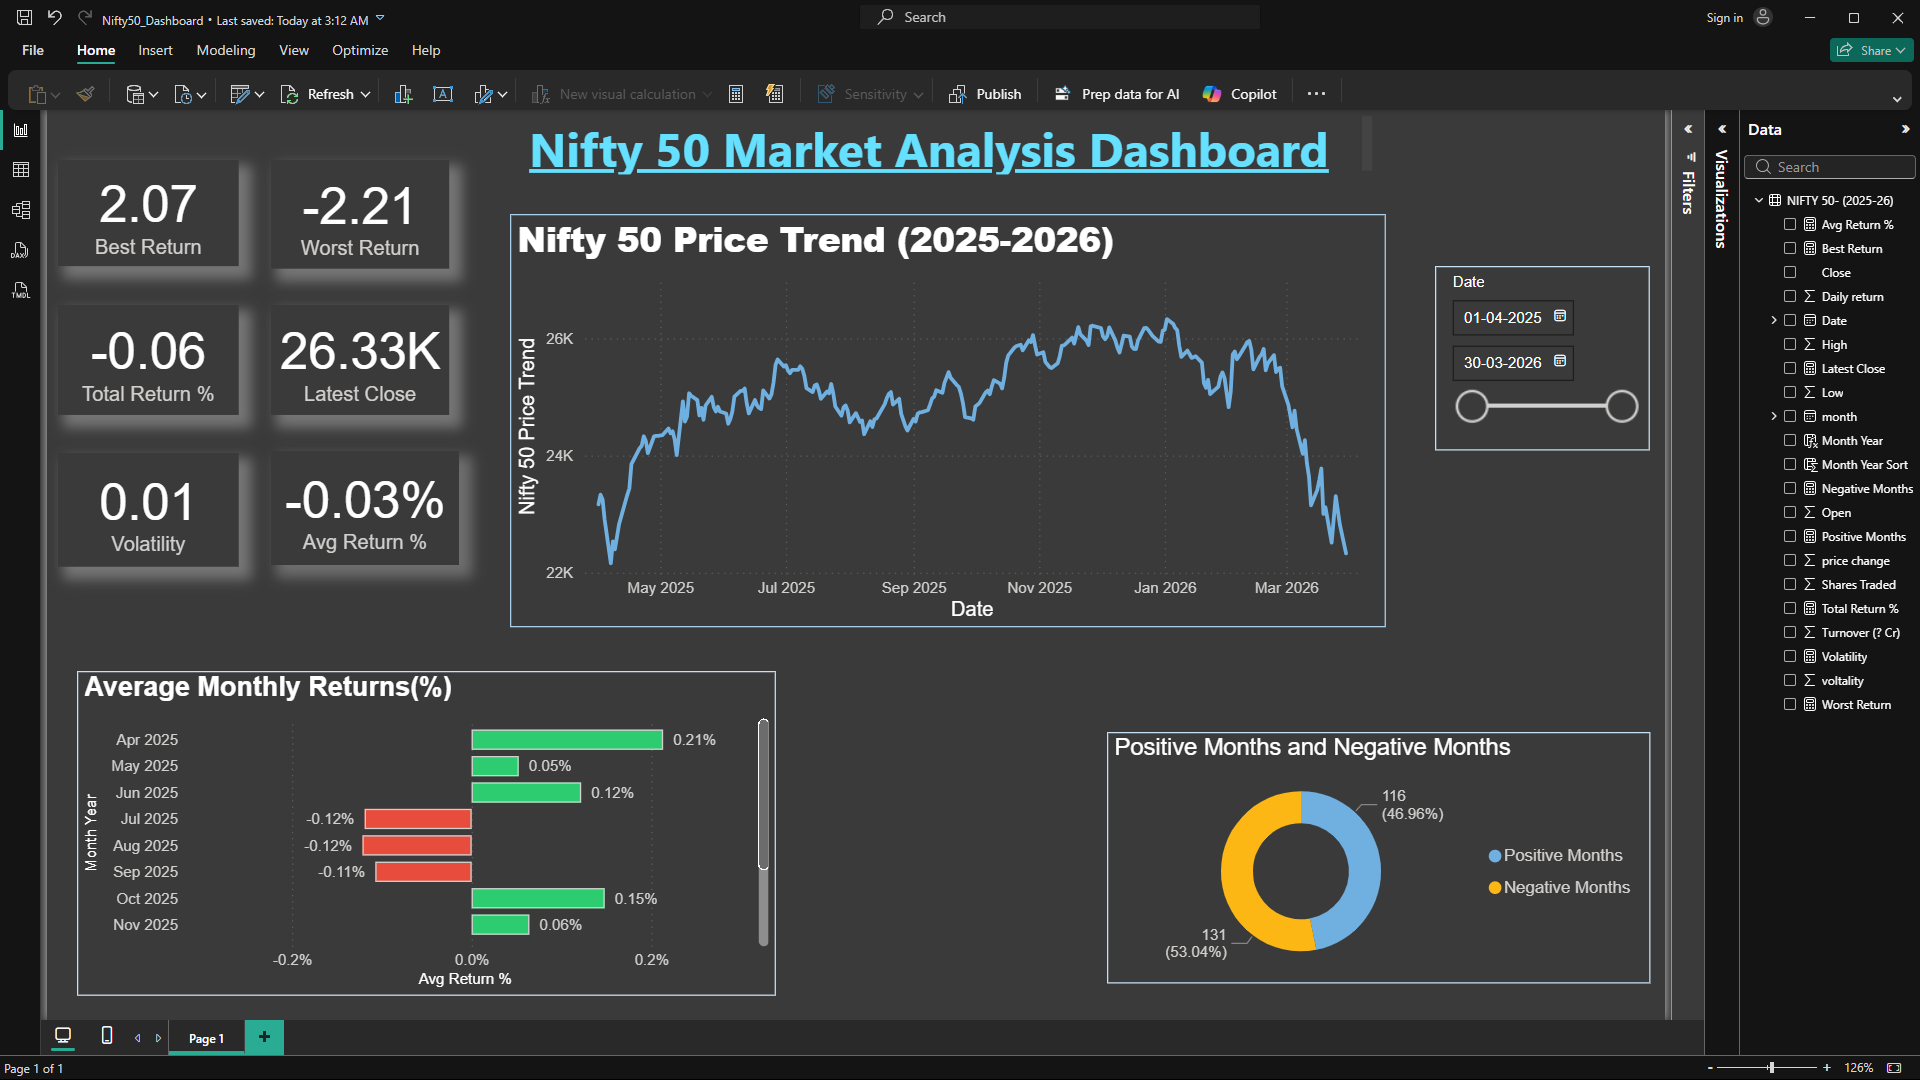

The dashboard page shown, as its layout file describes it:
{"tool":"powerbi","page":{"name":"Page 1","canvas":[1280,720],"ordinal":0},"visuals":[{"type":"lineChart","title":"Nifty 50 Price Trend (2025-2026)","fields":{"Y":["Sum(NIFTY 50-31-03-2025-to-31-03-20.Close)"],"Category":["NIFTY 50-31-03-2025-to-31-03-20.Date "]},"box":[366.7,82.7,693.5,326.8],"z":0},{"type":"slicer","fields":{"Values":["NIFTY 50-31-03-2025-to-31-03-20.Date "]},"box":[1098.1,123.5,170.2,145.9],"z":1000},{"type":"clusteredBarChart","title":"Average Monthly  Returns(%)","fields":{"Y":["NIFTY 50-31-03-2025-to-31-03-20.Avg Return %"],"Category":["NIFTY 50-31-03-2025-to-31-03-20.Month Year"]},"box":[23.3,443.5,553.4,256.8],"z":2000},{"type":"textbox","box":[350.2,0,703.2,56.4],"z":3000},{"type":"card","fields":{"Values":["NIFTY 50-31-03-2025-to-31-03-20.Volatility"]},"box":[8.8,271.4,143,90.5],"z":4000},{"type":"card","fields":{"Values":["NIFTY 50-31-03-2025-to-31-03-20.Avg Return %"]},"box":[177,269.4,148.8,90.5],"z":5000},{"type":"card","fields":{"Values":["NIFTY 50-31-03-2025-to-31-03-20.Best Return"]},"box":[8.8,39.9,143,83.6],"z":6000},{"type":"card","fields":{"Values":["NIFTY 50-31-03-2025-to-31-03-20.Worst Return"]},"box":[177,39.9,141,85.6],"z":7000},{"type":"card","fields":{"Values":["NIFTY 50-31-03-2025-to-31-03-20.Latest Close"]},"box":[177,154.7,141,86.6],"z":8000},{"type":"card","fields":{"Values":["NIFTY 50-31-03-2025-to-31-03-20.Total Return %"]},"box":[8.8,154.7,143,86.6],"z":9000},{"type":"donutChart","fields":{"Y":["NIFTY 50-31-03-2025-to-31-03-20.Positive Months","NIFTY 50-31-03-2025-to-31-03-20.Negative Months"]},"box":[838.4,492.2,429.9,199.4],"z":10000}]}

Visuals, with their boxes on the page's 1280x720 design canvas (x1, y1, x2, y2). These are canvas units, not pixel positions in the 1920x1080 screenshot, which may show the page scaled, cropped or inside an application window:
"Nifty 50 Price Trend (2025-2026)" lineChart: <box>367,83,1060,410</box>
slicer - NIFTY 50-31-03-2025-to-31-03-20.Date : <box>1098,124,1268,269</box>
"Average Monthly  Returns(%)" clusteredBarChart: <box>23,444,577,700</box>
textbox: <box>350,0,1053,56</box>
card - NIFTY 50-31-03-2025-to-31-03-20.Volatility: <box>9,271,152,362</box>
card - NIFTY 50-31-03-2025-to-31-03-20.Avg Return %: <box>177,269,326,360</box>
card - NIFTY 50-31-03-2025-to-31-03-20.Best Return: <box>9,40,152,124</box>
card - NIFTY 50-31-03-2025-to-31-03-20.Worst Return: <box>177,40,318,126</box>
card - NIFTY 50-31-03-2025-to-31-03-20.Latest Close: <box>177,155,318,241</box>
card - NIFTY 50-31-03-2025-to-31-03-20.Total Return %: <box>9,155,152,241</box>
donutChart - NIFTY 50-31-03-2025-to-31-03-20.Positive Months x NIFTY 50-31-03-2025-to-31-03-20.Negative Months: <box>838,492,1268,692</box>
